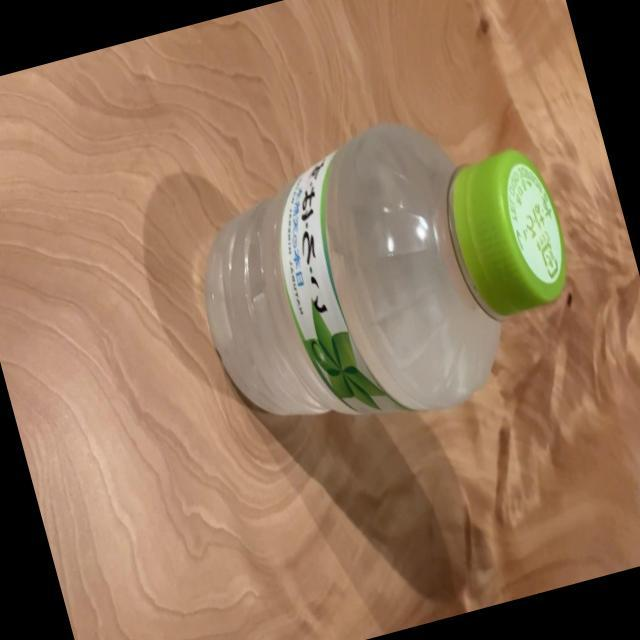good: (168, 88, 601, 466)
